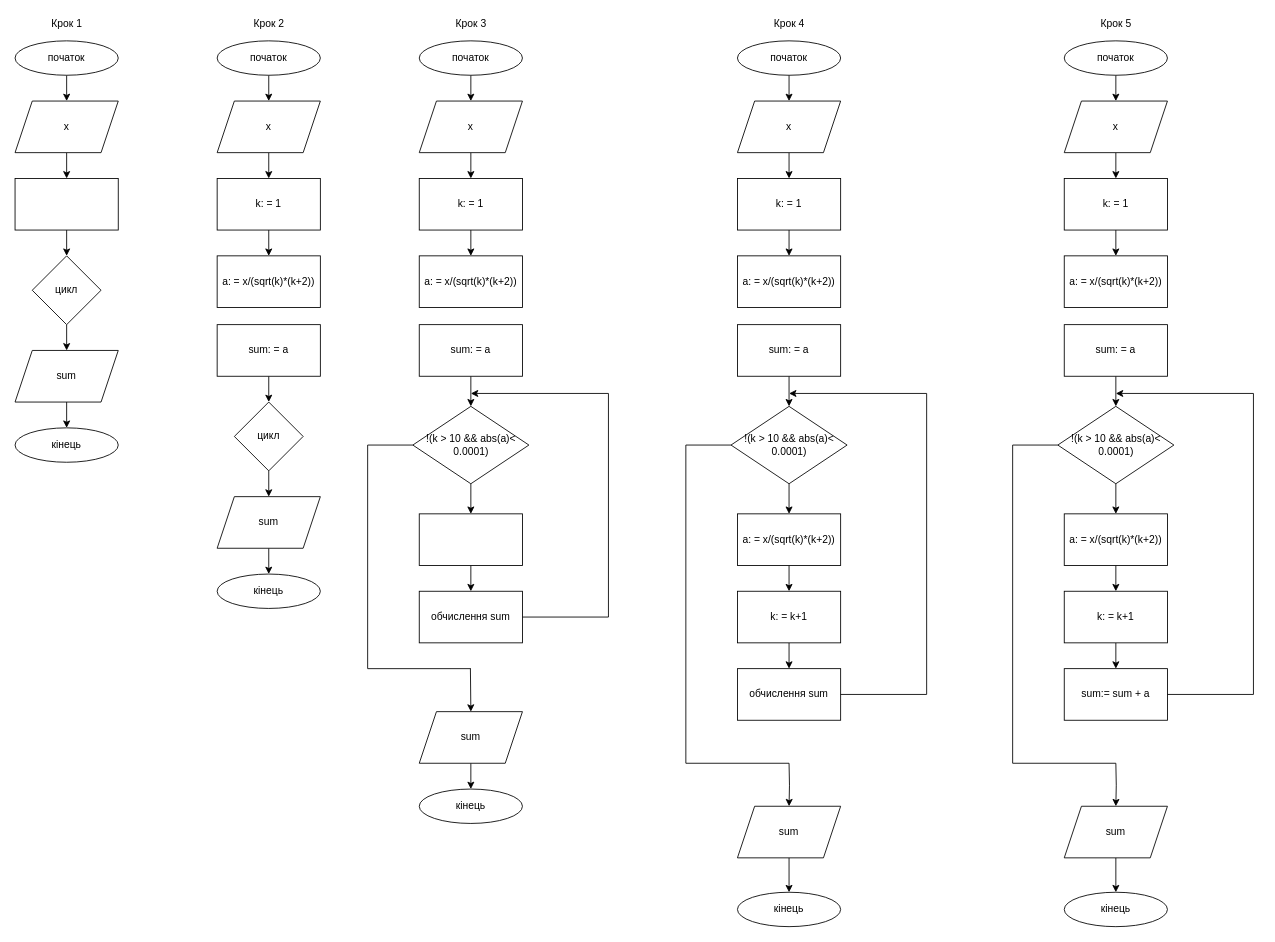
The diagram is 1275 pixels wide and 942 high, and some of its shapes have lost their labels. The centre of each missing label's shape, as x and y in pixels:
"обчислення значень k та a" belongs at point 470,539.
"Ініціалізація a, k, sum" belongs at point 66,204.
